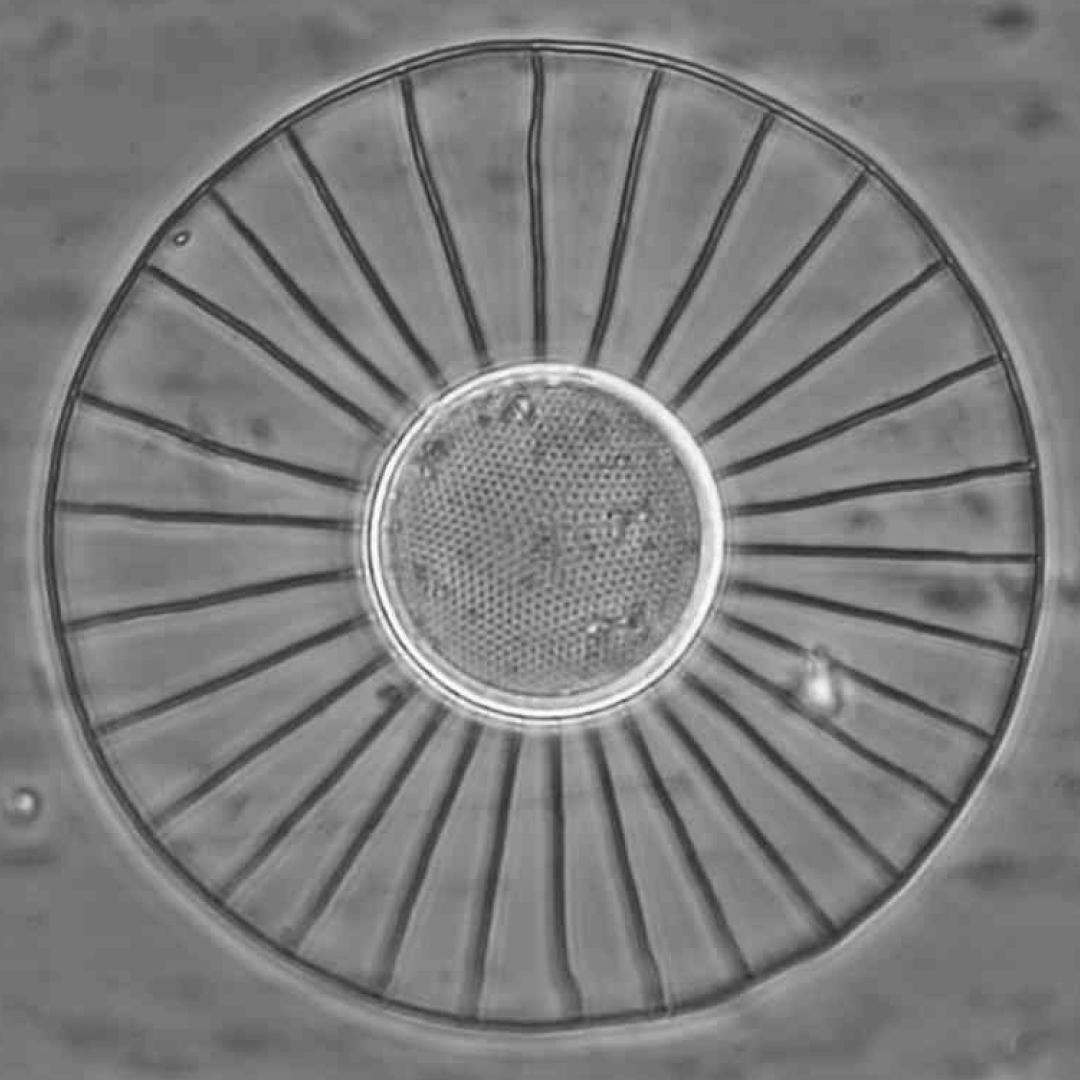planktoniella_sol: (44, 40, 1043, 1032)
